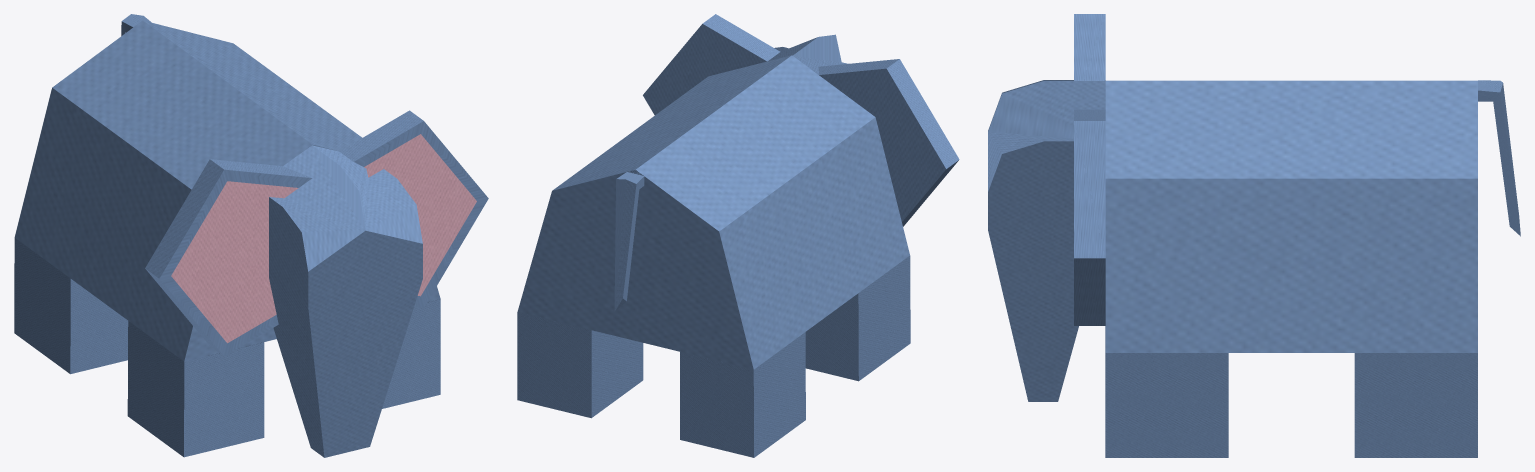
The model's file is Elephant_B.FBX.
3 renders of one model, left to right at view 1: azimuth 30°, elevation 25°; view 2: azimuth 150°, elevation 25°; view 3: azimuth 270°, elevation 25°, orthographic. The views are drawn at different scales.
Parts seen in each view (by area): view 1: Elephant; view 2: Elephant; view 3: Elephant.
Boxes of the visible parts, left/top/right/bottom form: Elephant: left=14, top=14, right=488, bottom=457; Elephant: left=517, top=14, right=959, bottom=457; Elephant: left=988, top=14, right=1520, bottom=457.
Size of the model in its own units: 67.47 by 57.23 by 86.1.
